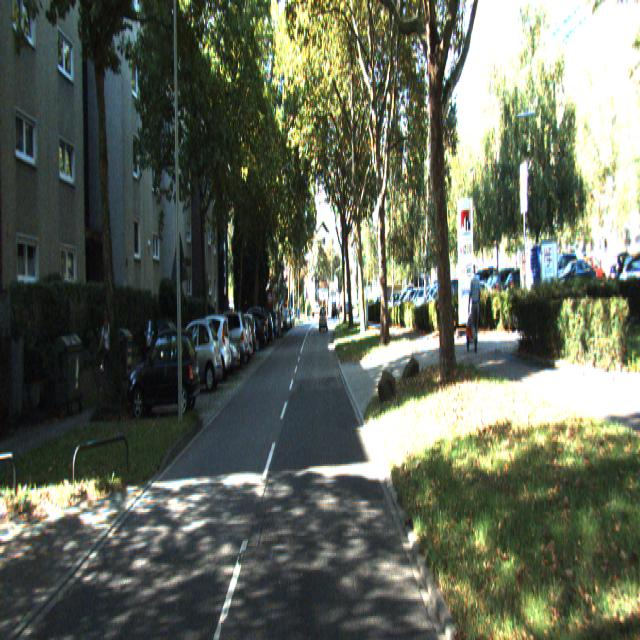Car: (127, 324, 201, 417), (167, 314, 223, 393), (181, 311, 233, 382), (200, 301, 248, 365), (227, 314, 257, 362), (234, 312, 266, 349)
DontCare: (479, 249, 639, 292), (266, 288, 350, 341), (92, 297, 112, 412), (386, 267, 438, 309), (463, 258, 480, 357)
